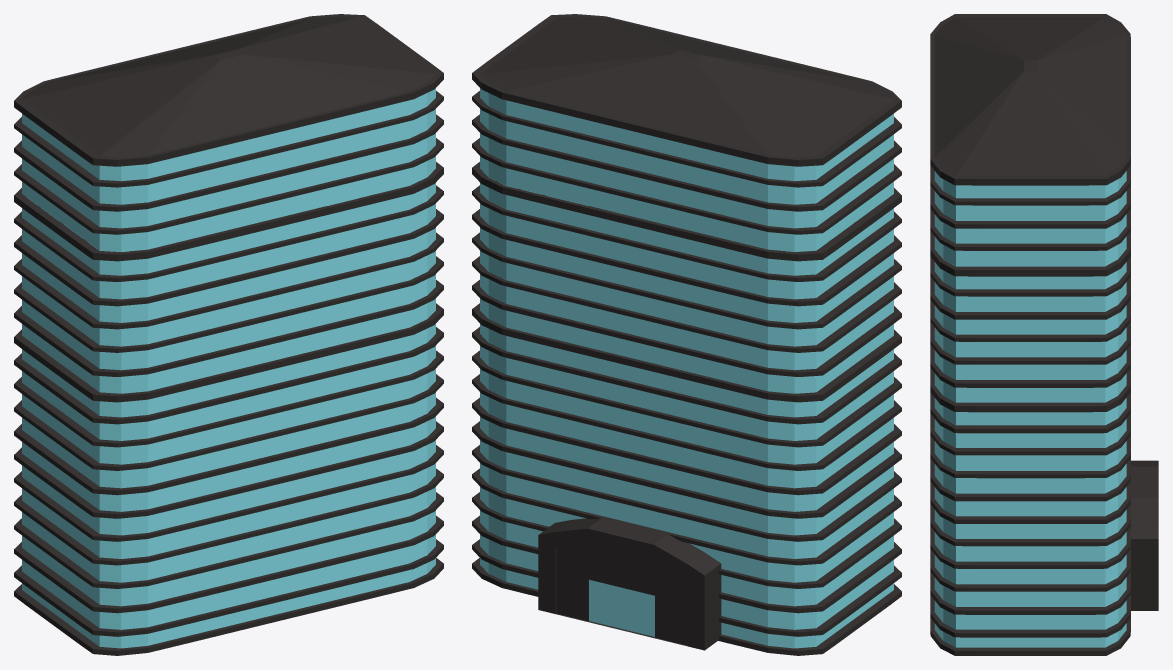
Rendered from skyscraper2_big.fbx.
3 renders of one model, left to right at view 1: azimuth 30°, elevation 25°; view 2: azimuth 150°, elevation 25°; view 3: azimuth 270°, elevation 25°, orthographic. The views are drawn at different scales.
Parts seen in each view (by area): view 1: Cube, Cube.001, Cube.002; view 2: Cube, Cube.001, Cube.002, Cube.003, Cube.004; view 3: Cube, Cube.001, Cube.002, Cube.003.
Part boxes in pixels (left/top/right/bottom): Cube: left=22, top=88, right=435, bottom=648; Cube.001: left=14, top=14, right=443, bottom=655; Cube.002: left=22, top=16, right=435, bottom=157; Cube: left=480, top=88, right=893, bottom=648; Cube.001: left=472, top=14, right=901, bottom=655; Cube.002: left=480, top=16, right=893, bottom=157; Cube.003: left=538, top=516, right=721, bottom=650; Cube.004: left=589, top=579, right=654, bottom=636; Cube: left=934, top=171, right=1126, bottom=647; Cube.001: left=930, top=14, right=1130, bottom=655; Cube.002: left=934, top=17, right=1126, bottom=175; Cube.003: left=1131, top=460, right=1158, bottom=610.
Bounding box in the file's own units: 6999 × 10052 × 4093.
